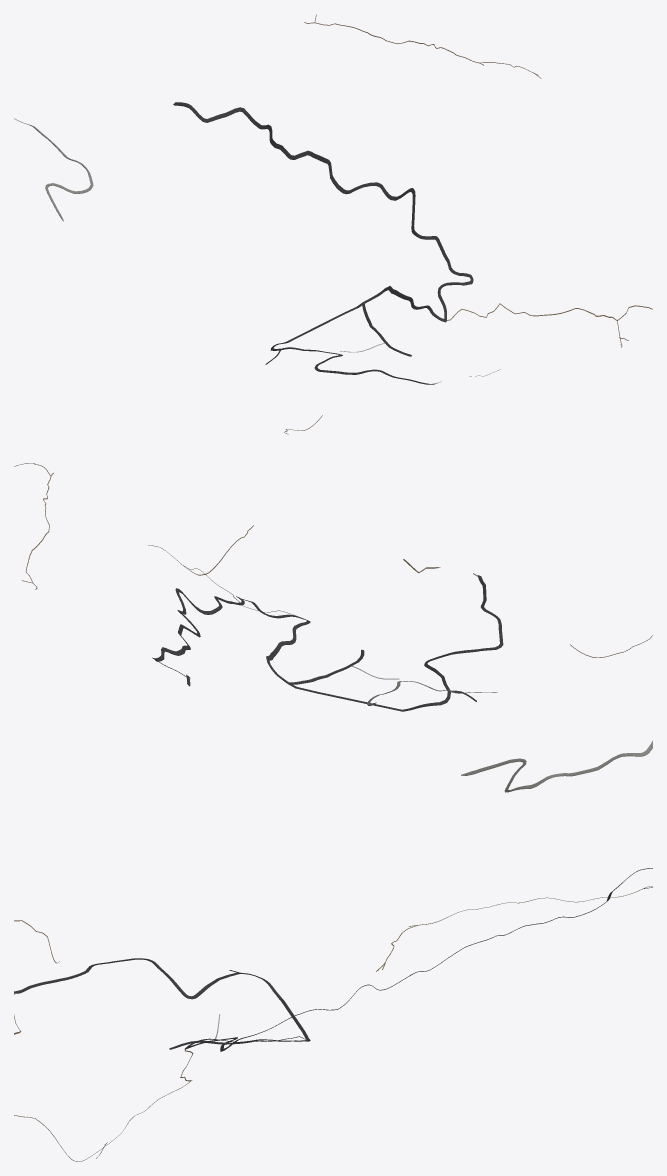
3 views of the same model, one above another, from view 1: azimuth 30°, elevation 25°; view 2: azimuth 150°, elevation 25°; view 3: azimuth 270°, elevation 25° (orthographic). The views are drawn at different scales.
Bounding box in the file's own units: 1173 × 480 × 1167.
